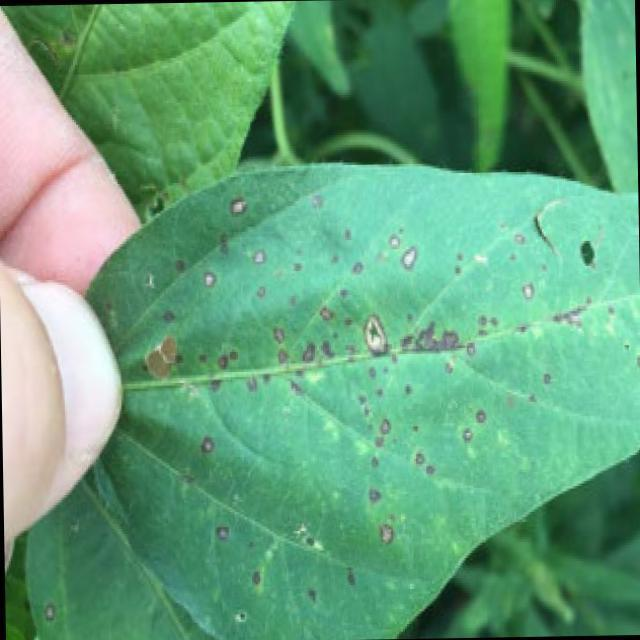Bacterial Spot: (125, 167, 587, 580)
